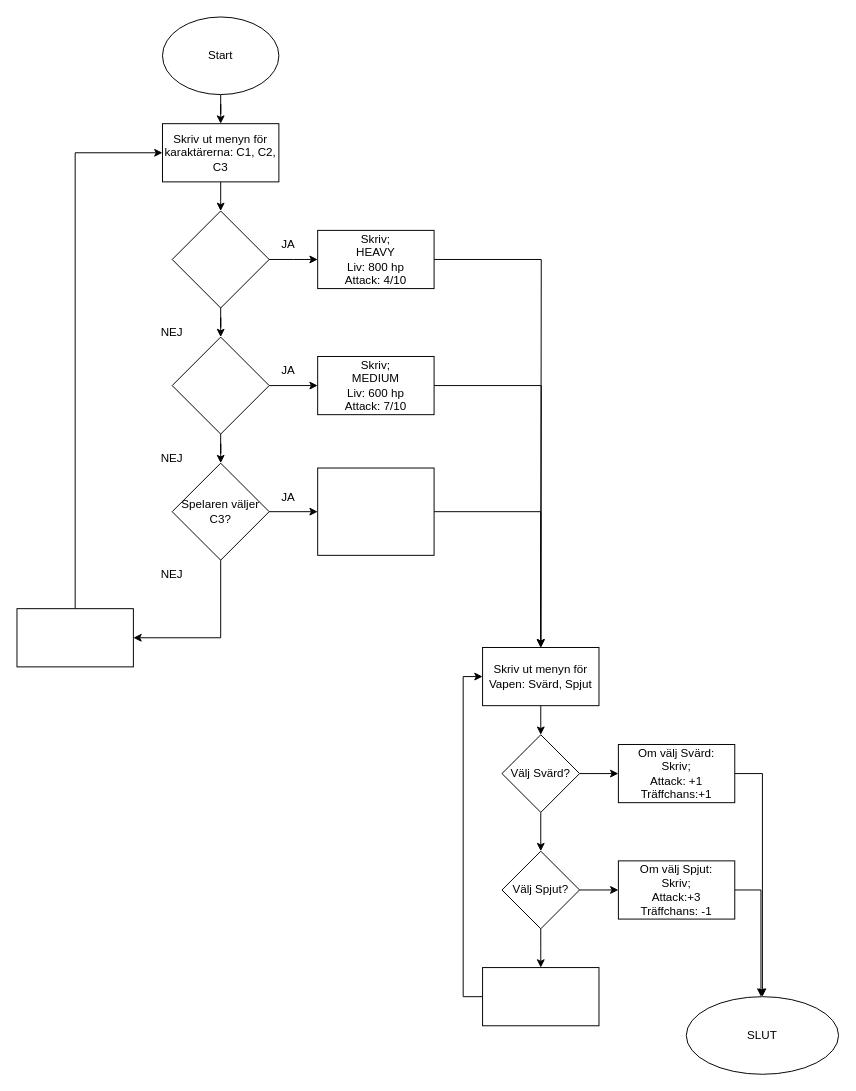
Some shapes in this 856 by 1091 pixel diagram are drawn without their labels. The box of each missing label's shape, as (x1, y1, x2, y2) in pixels:
Skriv; LIGHT Liv: 400 hp Attack: 6/10 +Perk: Högre träffchans!: (317, 467, 434, 555)
Skriv; Välj ett av alternativen.: (482, 967, 599, 1026)
Skriv; Välj ett av alternativen: C1 C2 C3: (16, 608, 133, 667)
Spelaren väljer C1?: (171, 210, 269, 308)
Spelaren väljer C2?: (171, 336, 269, 434)
